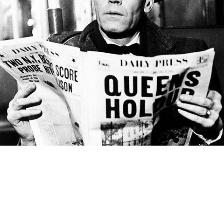news_paper: (0, 34, 216, 147)
